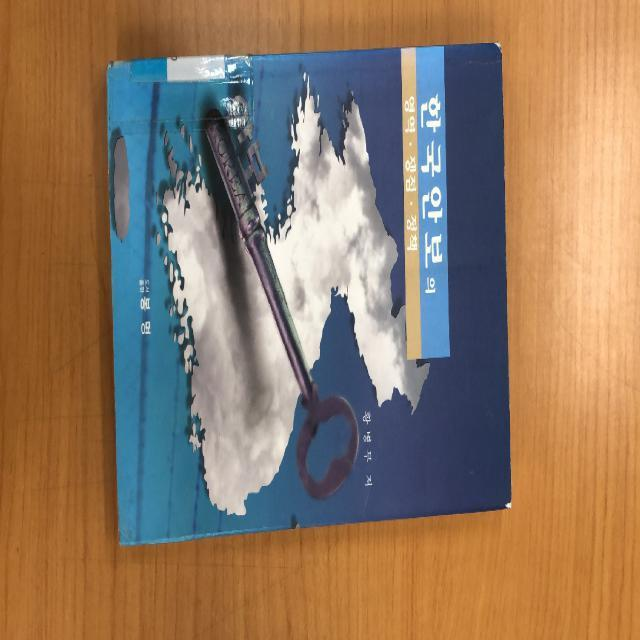Ripped: (498, 484, 515, 514), (487, 37, 505, 58)
Wornout: (114, 501, 127, 550), (103, 52, 125, 76), (291, 516, 305, 532)
